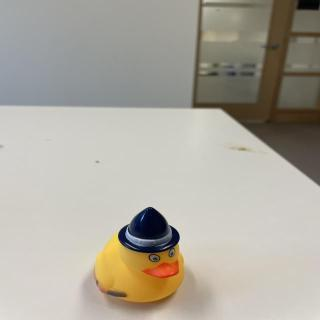duck_specialty: (93, 206, 189, 304)
